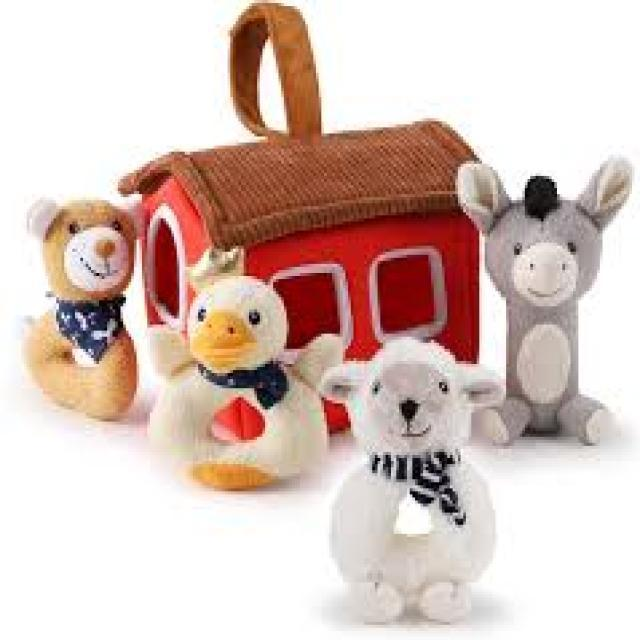soft-toy: (322, 339, 504, 624), (460, 159, 634, 445), (150, 277, 345, 490), (26, 201, 137, 419)
